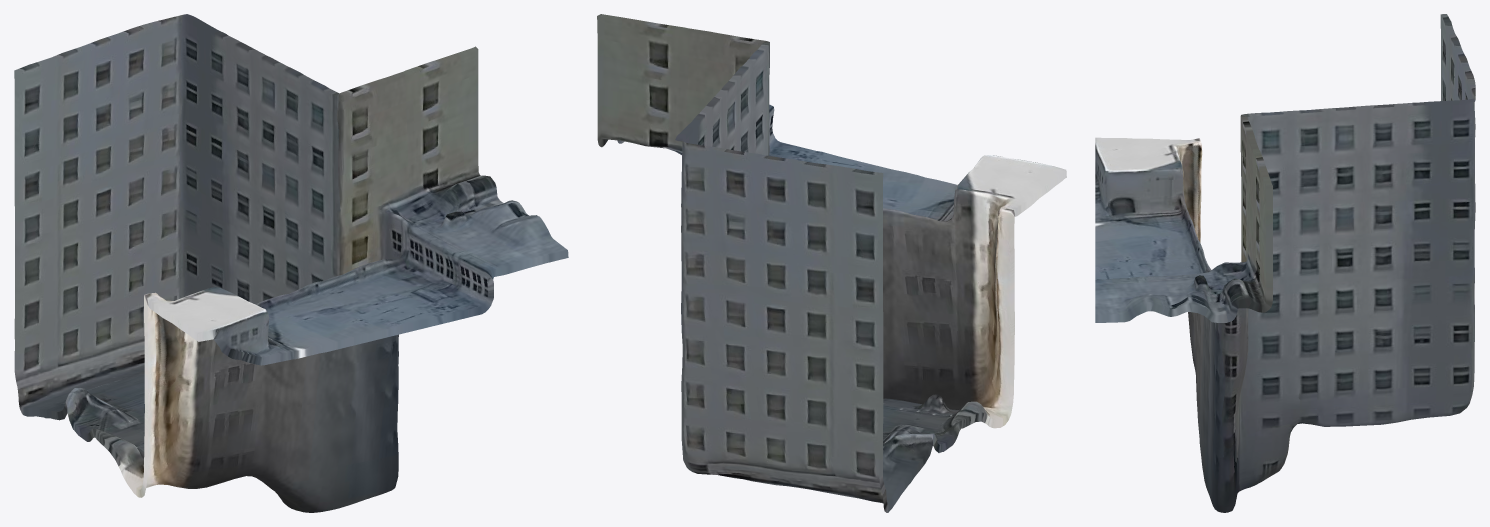
Rendered from z20-167748-405244-h1-yup-uvflip-v3-world.glb.
3 views of the same model, side by side, from view 1: azimuth 30°, elevation 25°; view 2: azimuth 150°, elevation 25°; view 3: azimuth 270°, elevation 25° (orthographic). The views are drawn at different scales.
Size of the model in its own units: 30.24 by 30.76 by 28.16.
Materials: 1 (1 with a texture image).
